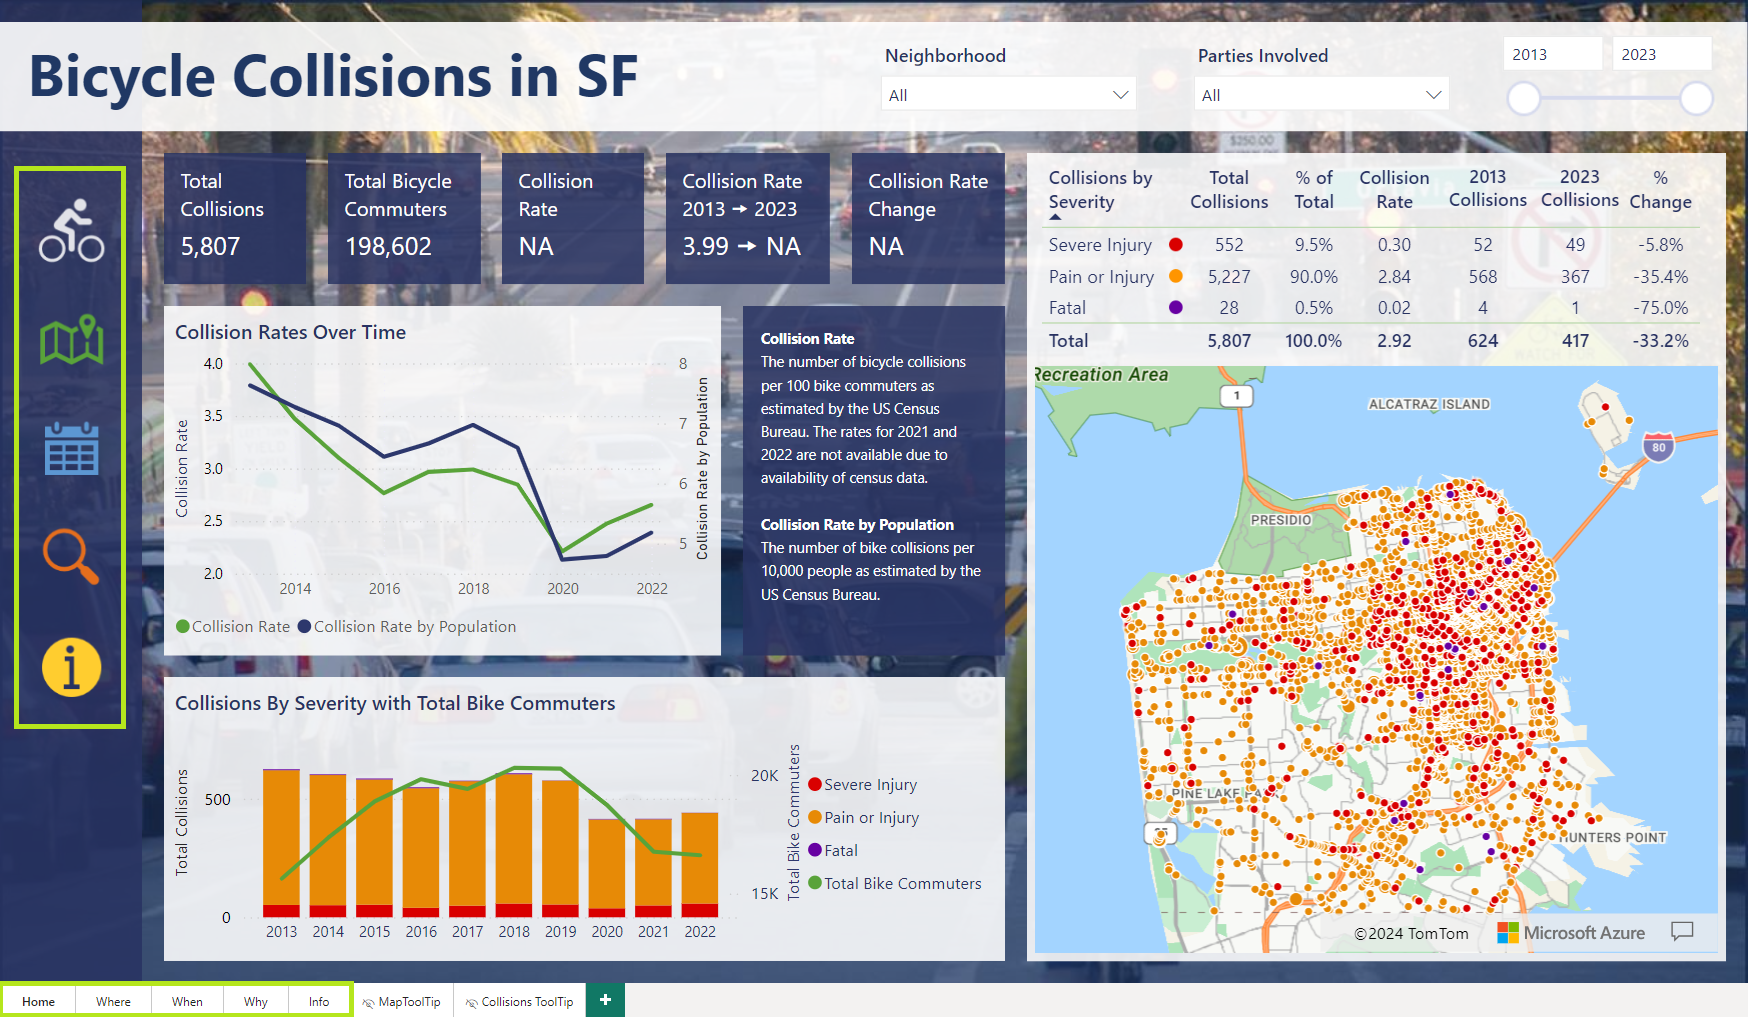

The page's visual inventory and layout, read from the dashboard file:
{"tool":"powerbi","page":{"name":"Home","canvas":[1280,720],"ordinal":0},"visuals":[{"type":"shape","box":[0,0,104,720],"z":0},{"type":"tableEx","fields":{"Values":["dimCollisionSeverity.CollisionSeverity","dimCollisionSeverity.Icon","_Measures.Total Collisions","_Measures.Collisions % by Severity","_Measures.Collision Rate","_Measures.Collisions Start Year","_Measures.Collisions End Year","_Measures.Collisions % Change over Years"]},"box":[752,112,512,156],"z":0,"group":"g1"},{"type":"textbox","box":[0,16,1280,80],"z":1000},{"type":"textbox","box":[1054,119.8,72,34.1],"z":2000,"group":"g1"},{"type":"azureMap","fields":{"Y":["factTrafficCrashes.Latitude"],"X":["factTrafficCrashes.Longitude"],"Series":["dimCollisionSeverity.CollisionSeverity"],"Size":["_Measures.Total Collisions"]},"box":[752,268,512,436],"z":2000},{"type":"group","id":"g1","title":"Group 1","box":[752,112,512,156],"z":3000},{"type":"slicer","fields":{"Values":["dimNeighborhoods.Neighborhood"]},"box":[635,24,208,64],"z":4000},{"type":"textbox","box":[1121,119.8,72,34.1],"z":4000,"group":"g1"},{"type":"slicer","fields":{"Values":["dimParties.Parties"]},"box":[864,24,208,64],"z":5000},{"type":"slicer","fields":{"Values":["dimDate.Year"]},"box":[1088,16,176,80],"z":6000},{"type":"multiRowCard","title":"Total Collisions","fields":{"Values":["_Measures.Total Collisions"]},"box":[120,112,104,96],"z":7000},{"type":"multiRowCard","title":"Total Bicycle Commuters","fields":{"Values":["_Measures.Total Bike Commuters with NA"]},"box":[240,112,112,96],"z":8000},{"type":"multiRowCard","title":"Collision Rate","fields":{"Values":["_Measures.Collision Rate with NA"]},"box":[368,112,104,96],"z":9000},{"type":"multiRowCard","fields":{"Values":["_Measures.Collision Rate Range"]},"box":[488,112,120,96],"z":10000},{"type":"multiRowCard","title":"Collision Rate Change","fields":{"Values":["_Measures.Collision Rate % Change over Years"]},"box":[624,112,112,96],"z":11000},{"type":"actionButton","box":[0,128,104,80],"z":12000},{"type":"actionButton","box":[0,208,104,80],"z":13000},{"type":"actionButton","box":[0,288,104,80],"z":14000},{"type":"actionButton","box":[0,368,104,80],"z":15000},{"type":"lineStackedColumnComboChart","title":"Collisions By Severity with Total Bike Commuters","fields":{"Category":["dimDate.Year"],"Y":["_Measures.Total Collisions"],"Series":["dimCollisionSeverity.CollisionSeverity"],"Y2":["_Measures.Total Bike Commuters"]},"box":[120,496,616,208],"z":16000},{"type":"lineChart","title":"Collision Rates Over Time","fields":{"Category":["dimDate.Year"],"Y":["_Measures.Collision Rate"],"Y2":["_Measures.Collision Rate by Population"]},"box":[120,224,408,256],"z":17000},{"type":"textbox","box":[544,224,192,256],"z":18000},{"type":"actionButton","box":[0,448,104,80],"z":19000}]}

Visuals, with their boxes on the page's 1280x720 design canvas (x1, y1, x2, y2). These are canvas units, not pixel positions in the 1748x1017 screenshot, which may show the page scaled, cropped or inside an application window:
shape: crop(0, 0, 104, 720)
tableEx - dimCollisionSeverity.CollisionSeverity x dimCollisionSeverity.Icon: crop(752, 112, 1264, 268)
textbox: crop(0, 16, 1280, 96)
textbox: crop(1054, 120, 1126, 154)
azureMap - factTrafficCrashes.Latitude x factTrafficCrashes.Longitude: crop(752, 268, 1264, 704)
"Group 1" group: crop(752, 112, 1264, 268)
slicer - dimNeighborhoods.Neighborhood: crop(635, 24, 843, 88)
textbox: crop(1121, 120, 1193, 154)
slicer - dimParties.Parties: crop(864, 24, 1072, 88)
slicer - dimDate.Year: crop(1088, 16, 1264, 96)
"Total Collisions" multiRowCard: crop(120, 112, 224, 208)
"Total Bicycle Commuters" multiRowCard: crop(240, 112, 352, 208)
"Collision Rate" multiRowCard: crop(368, 112, 472, 208)
multiRowCard - _Measures.Collision Rate Range: crop(488, 112, 608, 208)
"Collision Rate Change" multiRowCard: crop(624, 112, 736, 208)
actionButton: crop(0, 128, 104, 208)
actionButton: crop(0, 208, 104, 288)
actionButton: crop(0, 288, 104, 368)
actionButton: crop(0, 368, 104, 448)
"Collisions By Severity with Total Bike Commuters" lineStackedColumnComboChart: crop(120, 496, 736, 704)
"Collision Rates Over Time" lineChart: crop(120, 224, 528, 480)
textbox: crop(544, 224, 736, 480)
actionButton: crop(0, 448, 104, 528)
